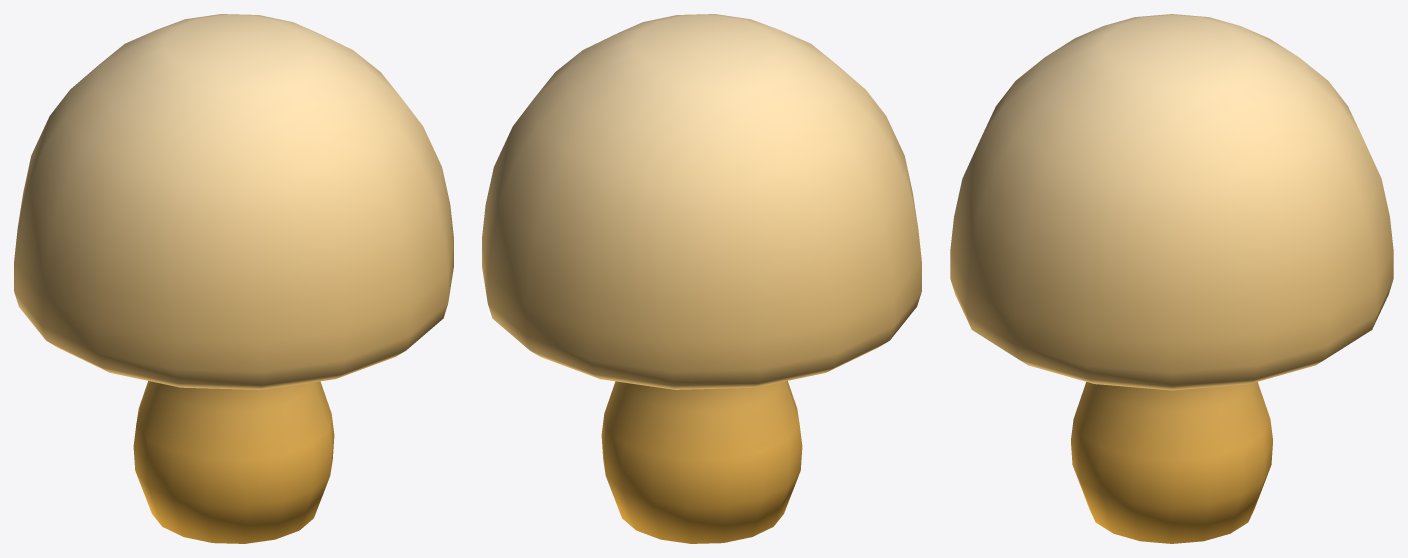
File: Farm_Crop_Mashroom_02.glb
3 views of the same model, side by side, from view 1: azimuth 30°, elevation 25°; view 2: azimuth 150°, elevation 25°; view 3: azimuth 270°, elevation 25° (orthographic).
Parts seen in each view (by area): view 1: Farm_Crop_Mashroom_02; view 2: Farm_Crop_Mashroom_02; view 3: Farm_Crop_Mashroom_02.
Boxes of the visible parts, x1,y1,x2,y2 form: Farm_Crop_Mashroom_02: (14,14,453,543); Farm_Crop_Mashroom_02: (482,14,921,543); Farm_Crop_Mashroom_02: (950,14,1393,543).
Bounding box in the file's own units: 0.5829 × 0.6835 × 0.5829.
1 material, 1 textured.
